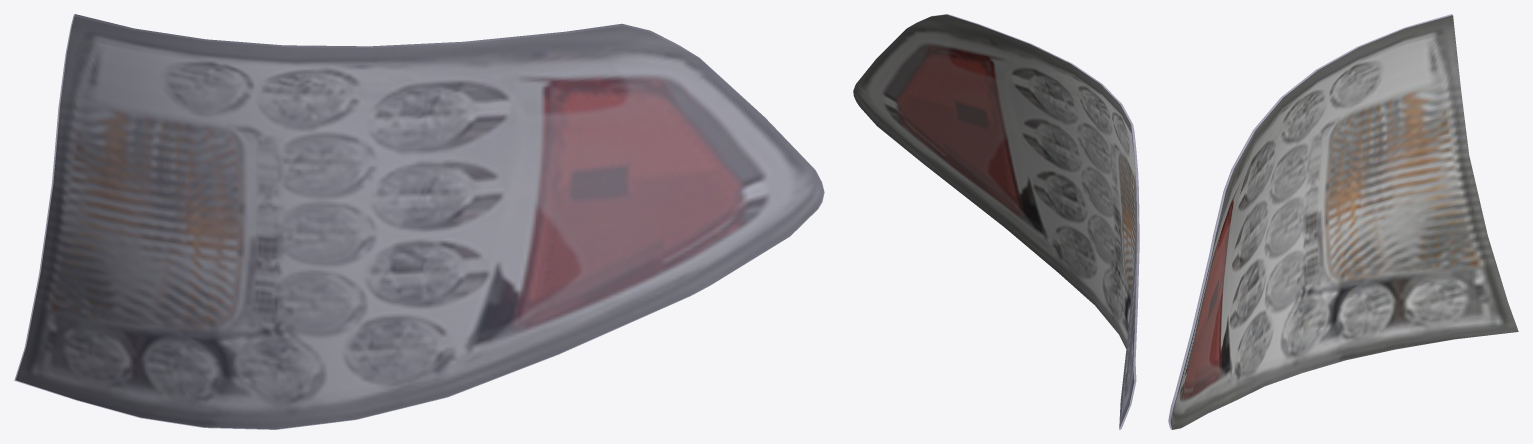
The picture shows the model from 3 angles, left to right: view 1: azimuth 30°, elevation 25°; view 2: azimuth 150°, elevation 25°; view 3: azimuth 270°, elevation 25°; orthographic projection. The views are drawn at different scales.
Visible parts, largest first — view 1: F183_541C_R_1_DTaSI_F183_541C_R, F183_541C_R_F183_541C_R_2_N; view 2: F183_541C_R_F183_541C_R_2_N, F183_541C_R_1_DTaSI_F183_541C_R; view 3: F183_541C_R_F183_541C_R_2_N, F183_541C_R_1_DTaSI_F183_541C_R.
Boxes of the visible parts, box(x1,y1,x2,y2) form: F183_541C_R_1_DTaSI_F183_541C_R: box(14, 14, 824, 429); F183_541C_R_F183_541C_R_2_N: box(16, 14, 823, 429); F183_541C_R_F183_541C_R_2_N: box(853, 14, 1137, 428); F183_541C_R_1_DTaSI_F183_541C_R: box(923, 14, 1139, 429); F183_541C_R_F183_541C_R_2_N: box(1170, 15, 1518, 429); F183_541C_R_1_DTaSI_F183_541C_R: box(1168, 14, 1452, 429).
Bounding box in the file's own units: 36.88 × 22.85 × 22.33.
